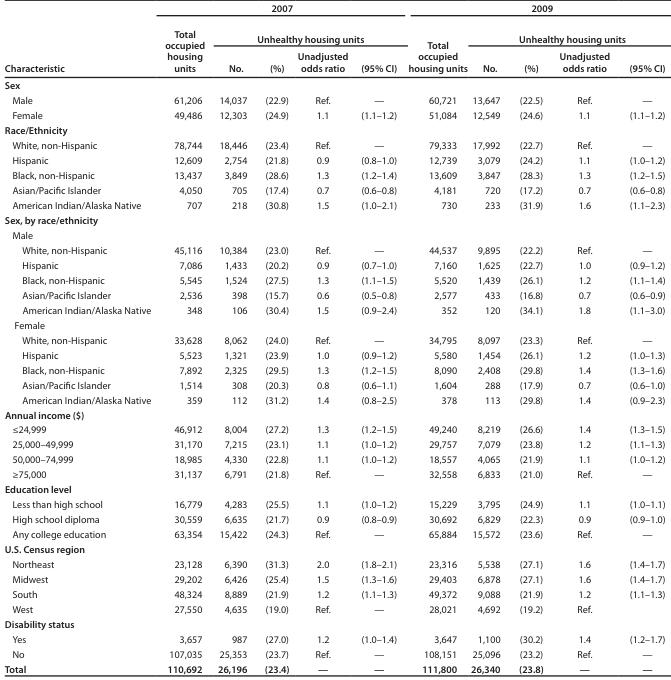table: (3, 3, 664, 674)
table column: (3, 3, 157, 674), (550, 3, 618, 674), (401, 3, 468, 674), (292, 3, 353, 674), (157, 3, 210, 674), (353, 3, 401, 674), (618, 3, 664, 674), (210, 3, 255, 674), (508, 3, 550, 674), (468, 3, 508, 674), (255, 3, 292, 674)
table column header: (3, 3, 664, 76)
table projected row header: (3, 76, 664, 93), (3, 123, 664, 138), (3, 212, 664, 227), (3, 227, 664, 242), (3, 317, 664, 332), (3, 407, 664, 422), (3, 482, 664, 497), (3, 616, 664, 631), (3, 542, 664, 556)
table row: (3, 47, 664, 76), (3, 21, 664, 47), (3, 3, 664, 21), (3, 76, 664, 93), (3, 93, 664, 108), (3, 108, 664, 123), (3, 123, 664, 138), (3, 138, 664, 153), (3, 167, 664, 182), (3, 182, 664, 197), (3, 197, 664, 212), (3, 212, 664, 227), (3, 227, 664, 242), (3, 242, 664, 257), (3, 257, 664, 272), (3, 272, 664, 287), (3, 287, 664, 302), (3, 302, 664, 317), (3, 317, 664, 332), (3, 332, 664, 347), (3, 347, 664, 362), (3, 362, 664, 377), (3, 377, 664, 392), (3, 392, 664, 407), (3, 407, 664, 422), (3, 422, 664, 437), (3, 437, 664, 452), (3, 452, 664, 467), (3, 467, 664, 482), (3, 482, 664, 497), (3, 497, 664, 512), (3, 512, 664, 527), (3, 527, 664, 542), (3, 556, 664, 571), (3, 571, 664, 586), (3, 586, 664, 601), (3, 601, 664, 616), (3, 616, 664, 631), (3, 631, 664, 646), (3, 646, 664, 661), (3, 153, 664, 167), (3, 542, 664, 556), (3, 661, 664, 674)
table spanning cell: (3, 3, 157, 76), (468, 21, 664, 47), (210, 21, 401, 47), (401, 3, 664, 21), (157, 3, 401, 21), (401, 21, 468, 76), (157, 21, 210, 76)
